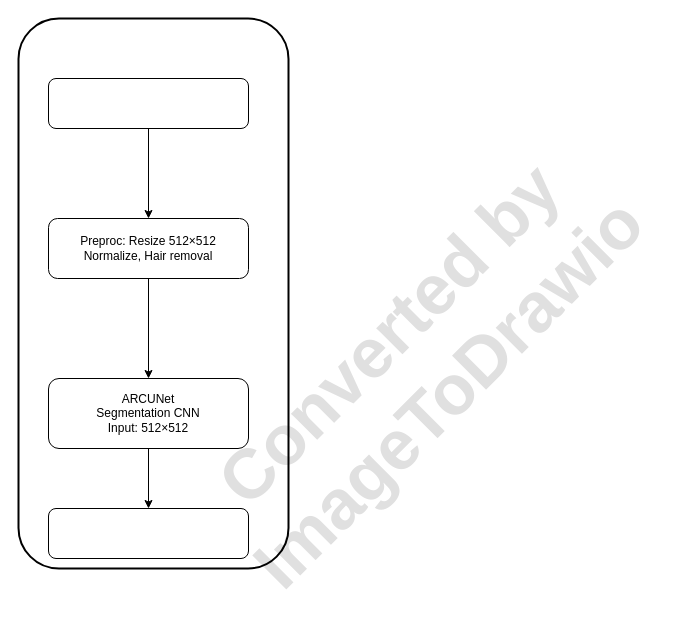
Image size: 677x622. Some labels were removed from this diagram. The centre of each missing label's shape, as x and y in pixels:
"Input: Skin Image ≤5MB" goes at [148,103].
"Output: Lesion Mask (512x512)" goes at [148,533].
